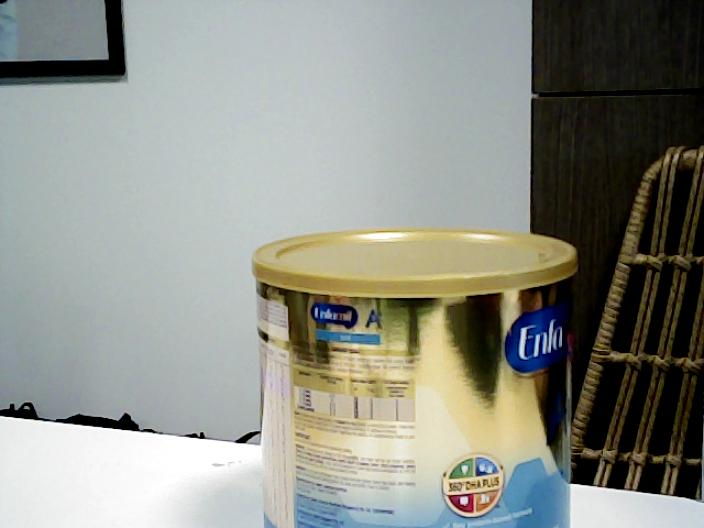Babymilk-powder-_800-899g_NonHalal_NonHealthy: (248, 227, 578, 528)
